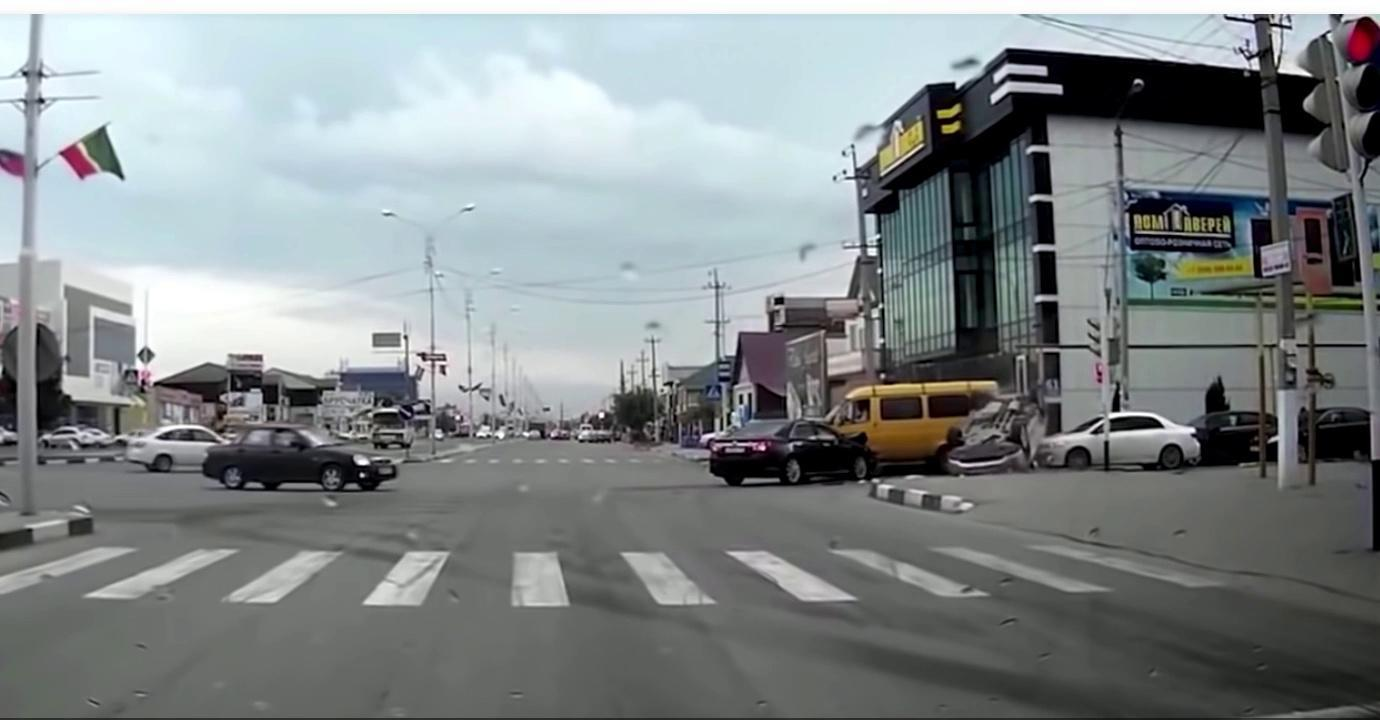car-accident: (711, 373, 1066, 486)
